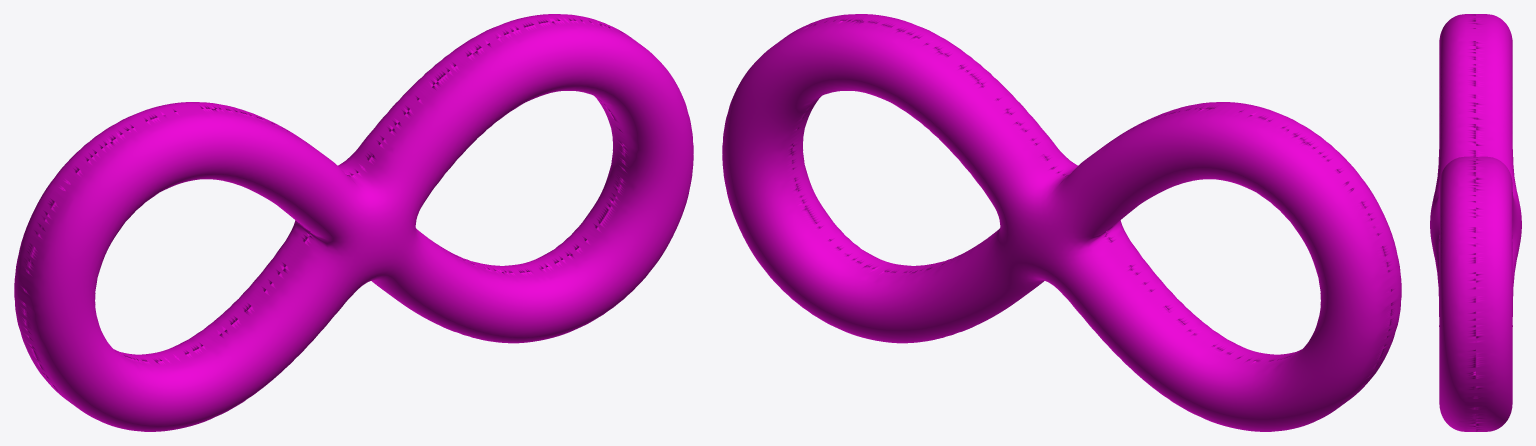
The model's file is infinity_7.glb.
3 renders of one model, left to right at view 1: azimuth 30°, elevation 25°; view 2: azimuth 150°, elevation 25°; view 3: azimuth 270°, elevation 25°, orthographic. The views are drawn at different scales.
Visible parts, largest first — view 1: infinity; view 2: infinity; view 3: infinity.
Part boxes in pixels (left/top/right/bottom): infinity: left=14, top=14, right=693, bottom=431; infinity: left=722, top=14, right=1401, bottom=431; infinity: left=1430, top=14, right=1521, bottom=431.
Size of the model in its own units: 1.8 by 0.8045 by 0.2688.
